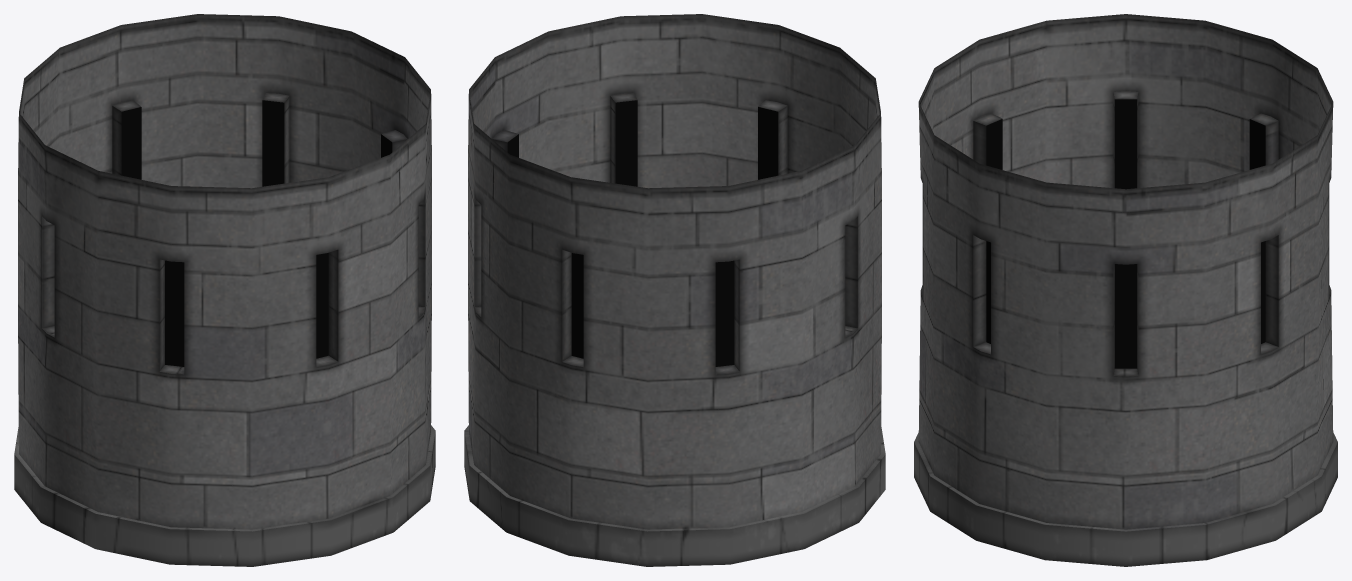
Rendered from sb_obj_outdoor002_DemonsCastle01_CircleWall01.fbx.
3 renders of one model, left to right at view 1: azimuth 30°, elevation 25°; view 2: azimuth 150°, elevation 25°; view 3: azimuth 270°, elevation 25°, orthographic.
Visible parts, largest first — view 1: sb_obj_outdoor002_DemonsCastle01_CircleWall01; view 2: sb_obj_outdoor002_DemonsCastle01_CircleWall01; view 3: sb_obj_outdoor002_DemonsCastle01_CircleWall01.
Boxes of the visible parts, x1=… form: sb_obj_outdoor002_DemonsCastle01_CircleWall01: x1=14, y1=14, x2=435, y2=566; sb_obj_outdoor002_DemonsCastle01_CircleWall01: x1=464, y1=14, x2=885, y2=566; sb_obj_outdoor002_DemonsCastle01_CircleWall01: x1=914, y1=14, x2=1337, y2=566.
Bounding box in the file's own units: 3.07 × 3 × 3.07.
